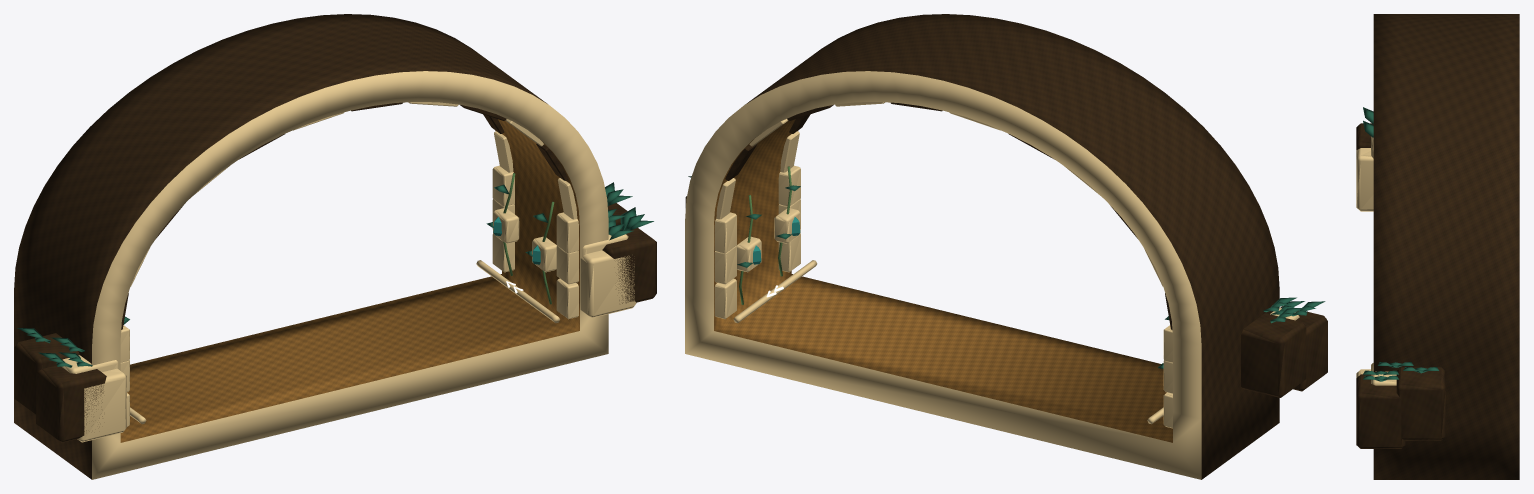
Rendered from portal_entry_lod1.glb.
The picture shows the model from 3 angles, left to right: view 1: azimuth 30°, elevation 25°; view 2: azimuth 150°, elevation 25°; view 3: azimuth 270°, elevation 25°; orthographic projection. The views are drawn at different scales.
Parts seen in each view (by area): view 1: TunnelGeometry.001; view 2: TunnelGeometry.001; view 3: TunnelGeometry.001.
Boxes of the visible parts, x1=… form: TunnelGeometry.001: x1=14, y1=14, x2=656, y2=479; TunnelGeometry.001: x1=685, y1=14, x2=1327, y2=479; TunnelGeometry.001: x1=1356, y1=14, x2=1519, y2=479.
Bounding box in the file's own units: 17.75 × 9.52 × 4.47.
7 materials, 2 textured.
